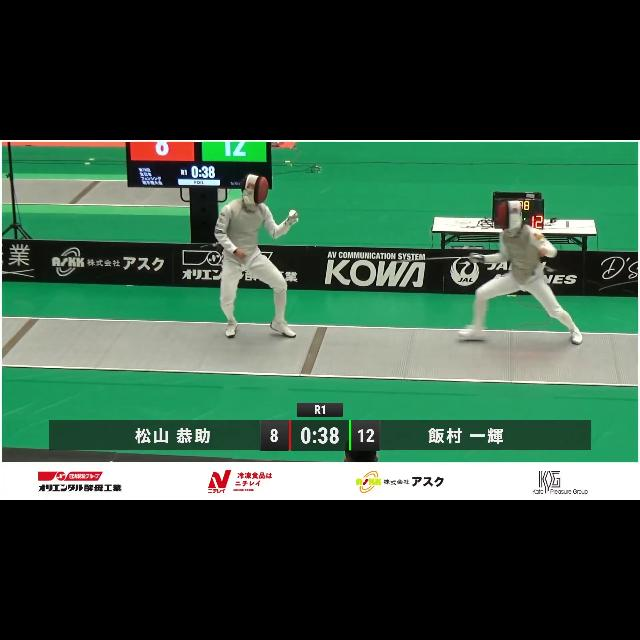blade: (286, 186, 338, 220), (390, 255, 484, 265)
